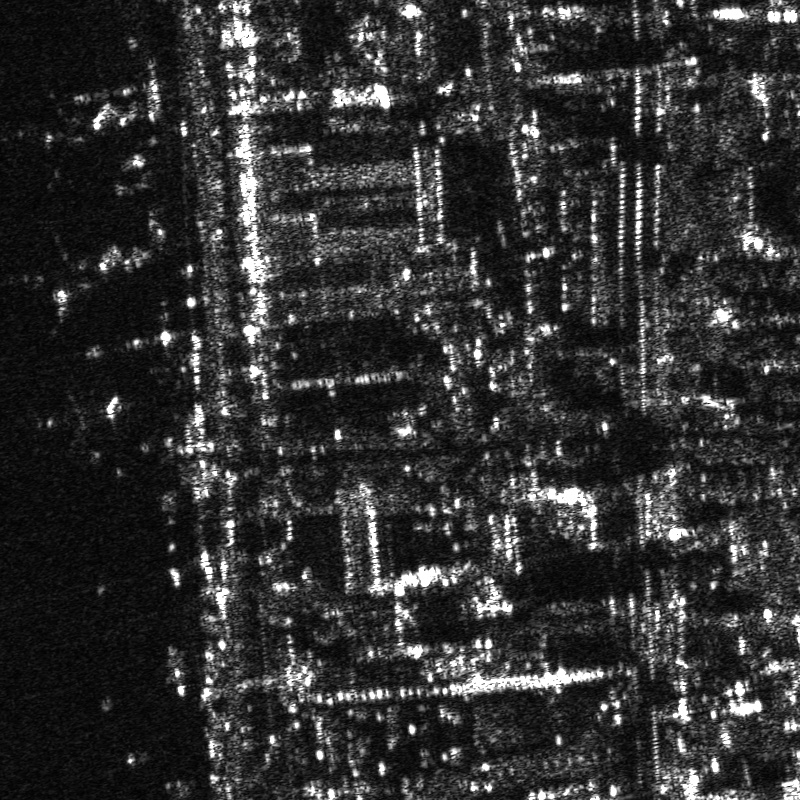ARJ21: (1, 216, 122, 338)
other: (1, 87, 115, 198), (30, 383, 129, 465)
